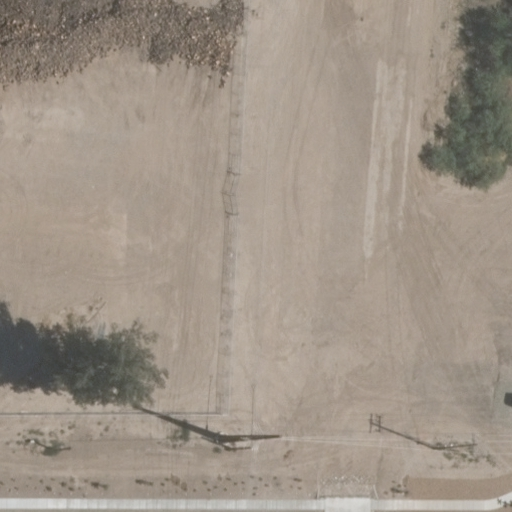DT: (208, 422, 287, 459), (434, 427, 485, 460)
